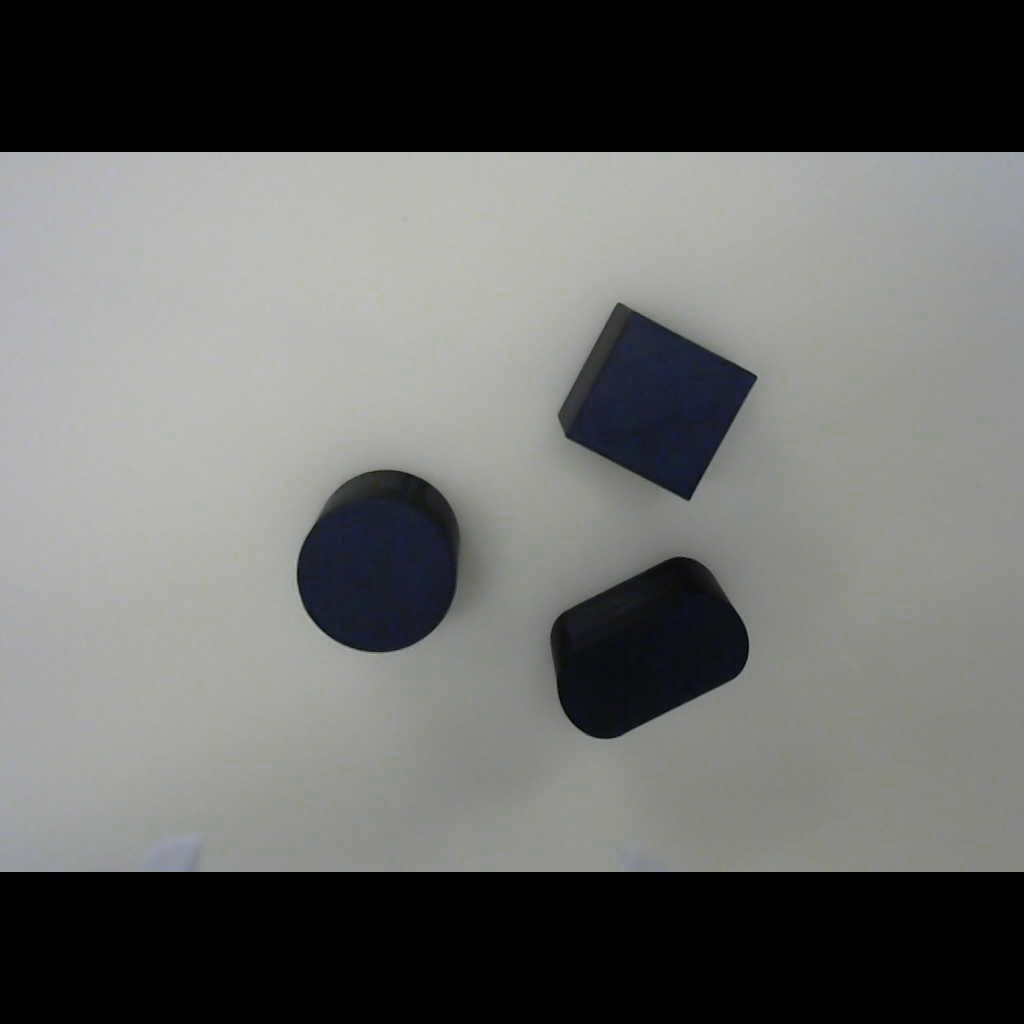circle: (282, 464, 475, 662)
oval: (506, 529, 776, 771)
square: (524, 275, 785, 526)
